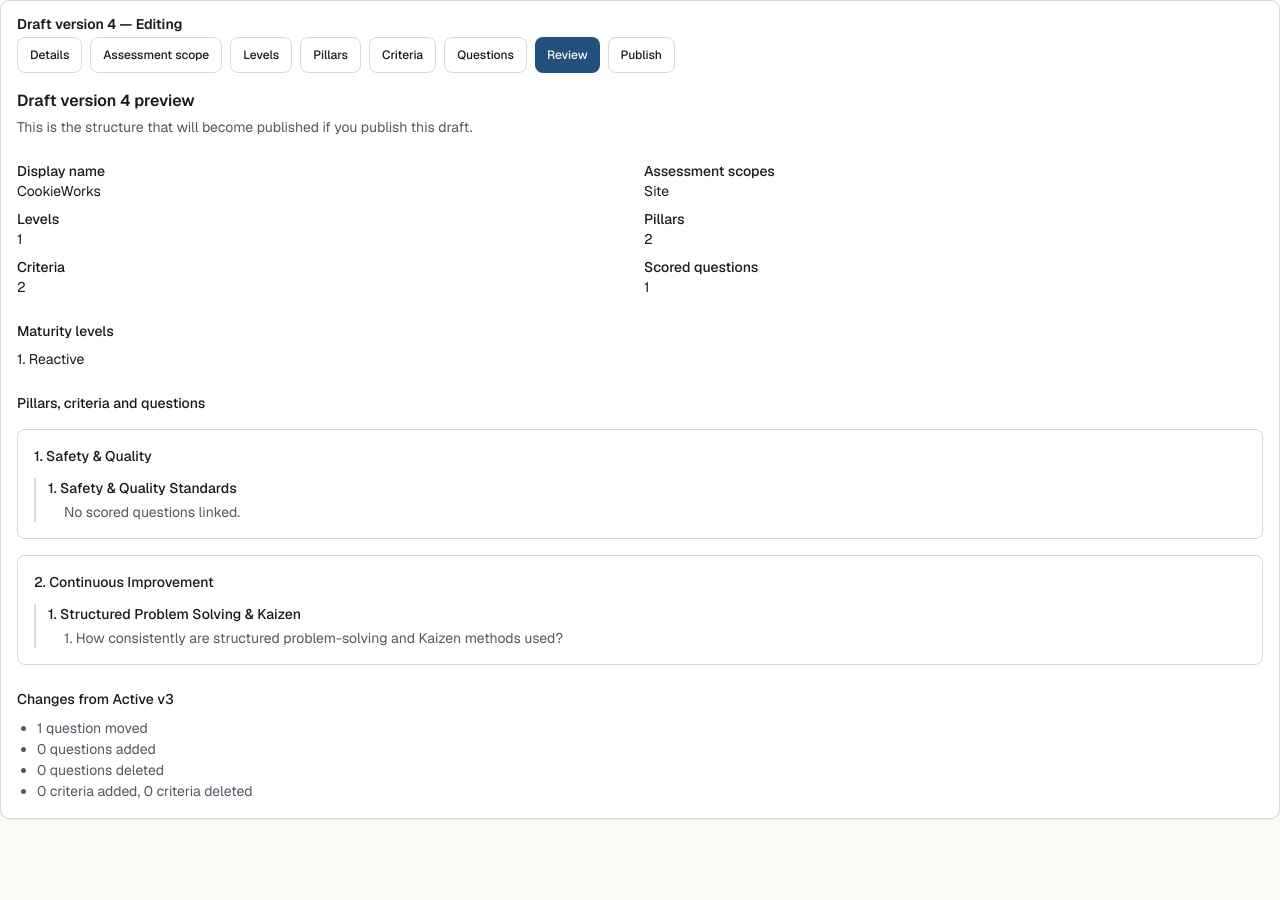
Test: FrameworkEditor authoring UX › previews the draft hierarchy and links publish back to review
Expected: the heading "Draft version 4 preview" is shown, [17,90,195,111]
Expected: the element with test id "framework-preview-pillar-pillar-ci" shows "2. Continuous Improvement", [34,573,214,591]
Click the button with test id "framework-step-publish" at (641, 55), box [608,37,675,73]
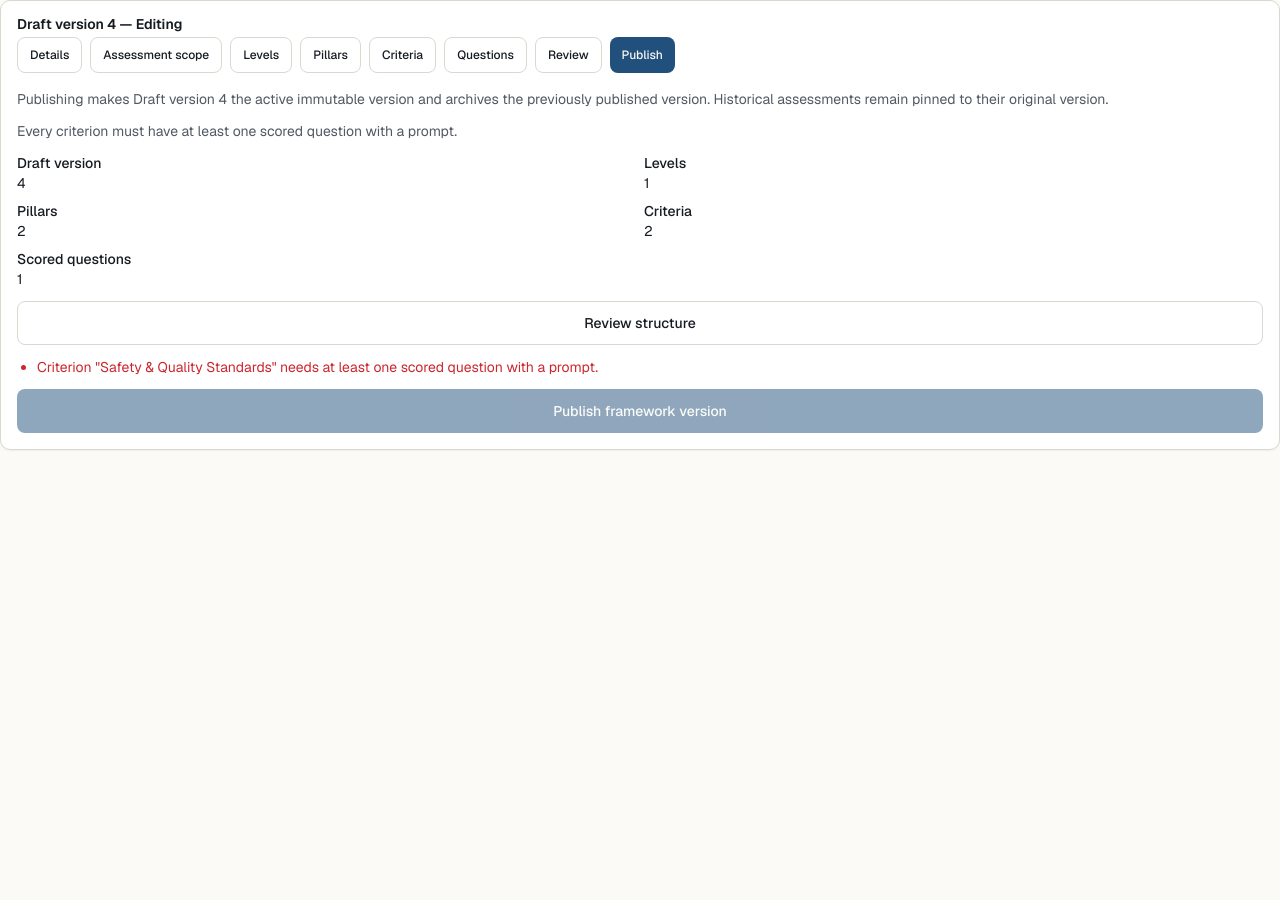
Expected: the element with test id "framework-publish-summary" shows "Draft version", [17,154,102,172]
Expected: the element with test id "framework-publish-summary" shows "4", [17,174,26,192]
Expected: the text "Publishing makes Draft version 4 the active immutable version and archives the previously published version. Historical " is shown, [17,90,1108,108]
Click the button with test id "review-structure" at (640, 323), box [17,301,1263,345]
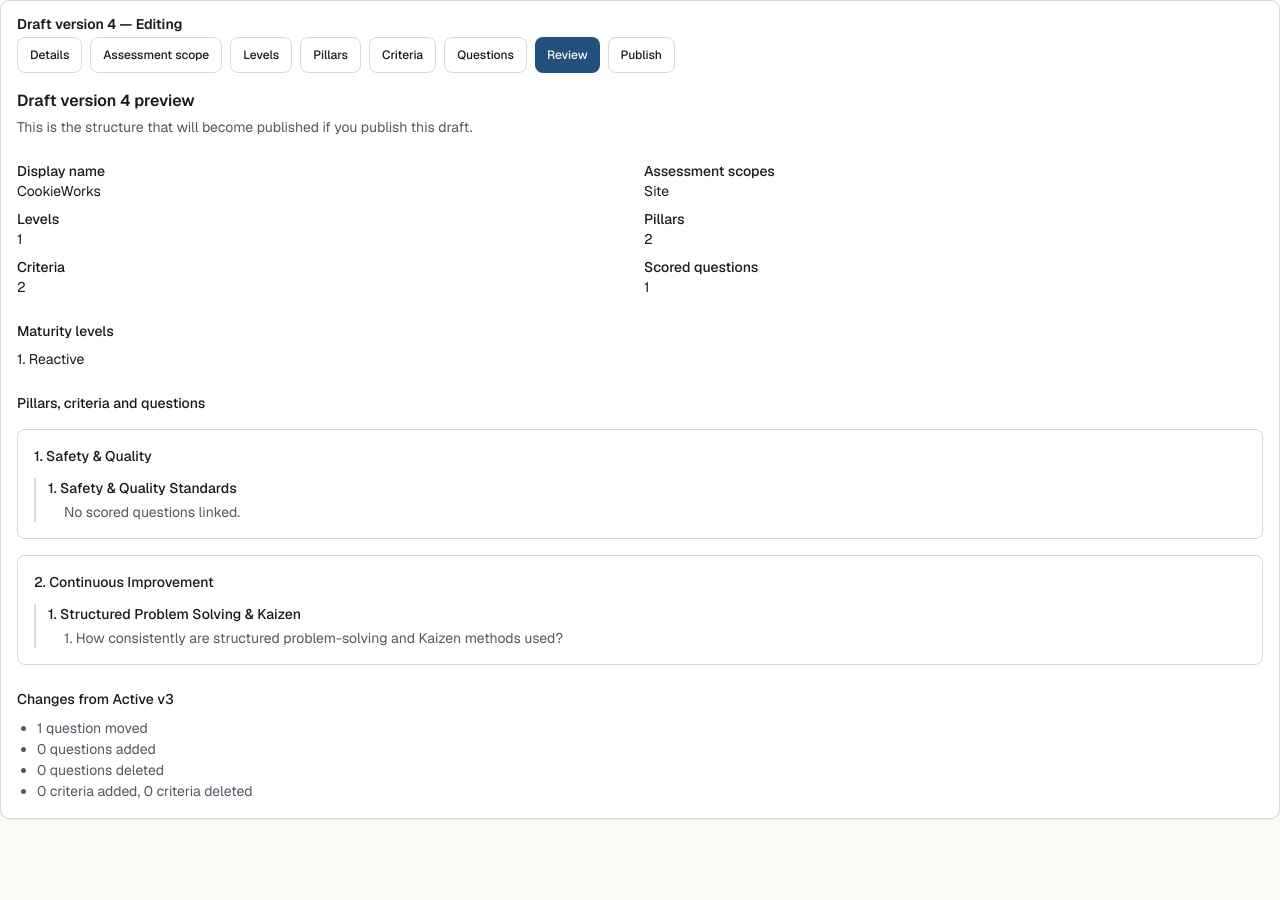
Expected: the element with test id "framework-preview-pillar-pillar-safety" does not show "How consistently are structured problem-solving and Kaizen methods used?", [17,429,1263,539]
Expected: the element with test id "draft-structure-preview" is shown
